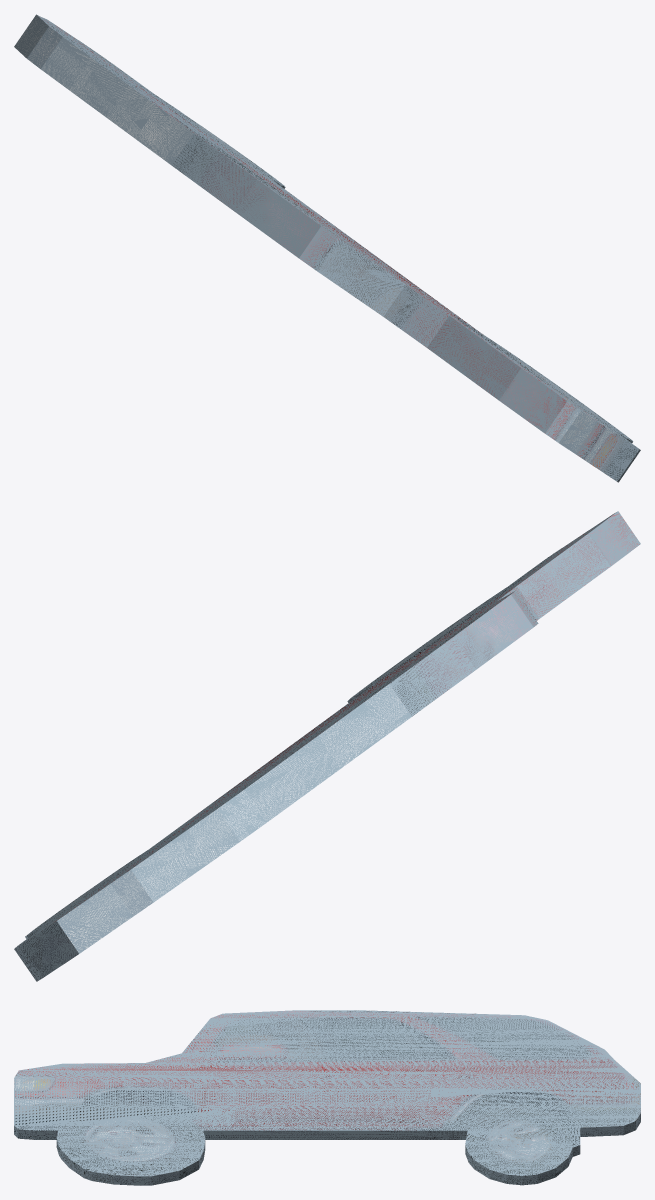
Rendered from Car on Side.fbx.
3 views of the same model, one above another, from view 1: azimuth 30°, elevation 25°; view 2: azimuth 150°, elevation 25°; view 3: azimuth 270°, elevation 25° (orthographic). The views are drawn at different scales.
Parts seen in each view (by area): view 1: Model; view 2: Model; view 3: Model.
Boxes of the visible parts, x1,y1,x2,y2 form: Model: (14,14,640,482); Model: (14,511,640,981); Model: (14,1010,640,1185).
Size of the model in its own units: 122 by 109 by 501.
